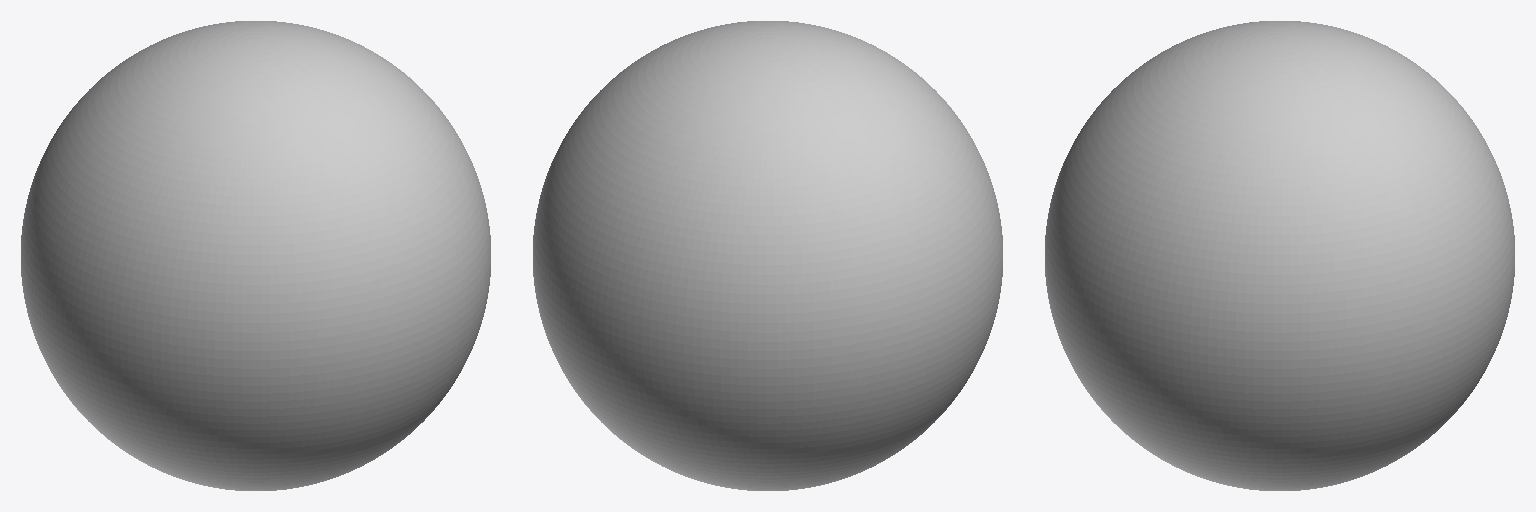
The model's file is light2.obj.
3 views of the same model, side by side, from view 1: azimuth 30°, elevation 25°; view 2: azimuth 150°, elevation 25°; view 3: azimuth 270°, elevation 25° (orthographic).
Parts seen in each view (by area): view 1: Sphere; view 2: Sphere; view 3: Sphere.
Part boxes in pixels (left/top/right/bottom): Sphere: left=21, top=21, right=490, bottom=490; Sphere: left=533, top=21, right=1002, bottom=490; Sphere: left=1045, top=21, right=1514, bottom=490.
Bounding box in the file's own units: 2 × 2 × 2.